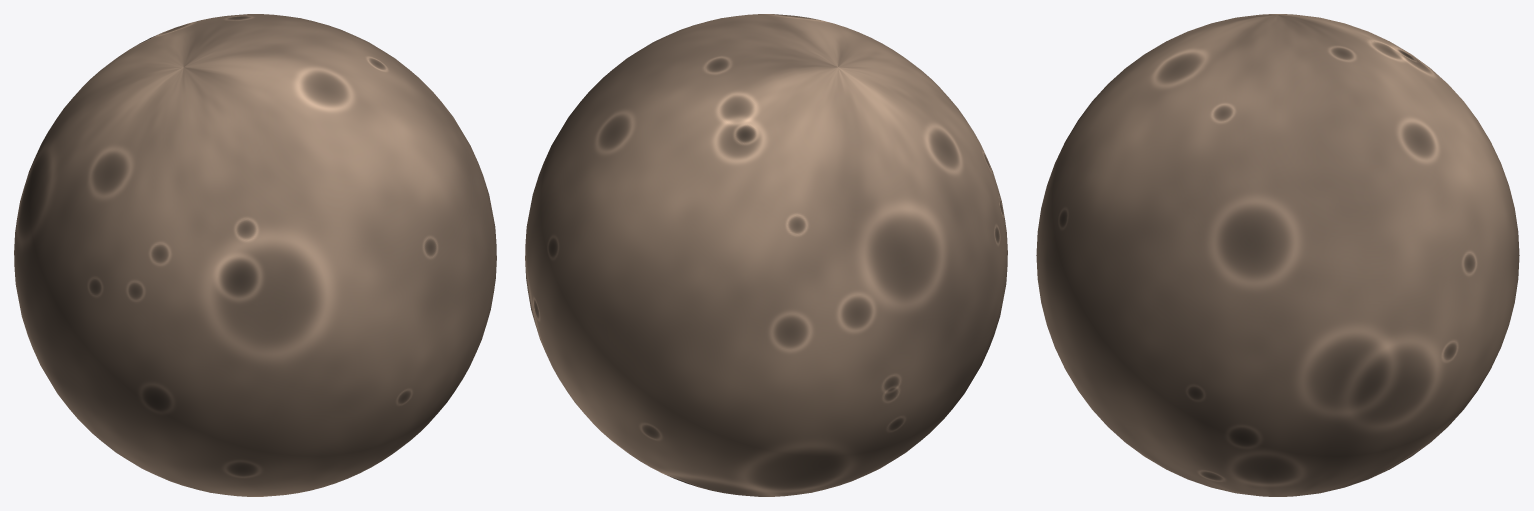
The model's file is eden.glb.
3 renders of one model, left to right at view 1: azimuth 30°, elevation 25°; view 2: azimuth 150°, elevation 25°; view 3: azimuth 270°, elevation 25°, orthographic.
Visible parts, largest first — view 1: Surface; view 2: Surface; view 3: Surface.
Boxes of the visible parts, x1,y1,x2,y2 form: Surface: [14, 14, 496, 496]; Surface: [525, 14, 1007, 496]; Surface: [1036, 14, 1519, 496].
Bounding box in the file's own units: 2 × 2 × 2.
1 material, 1 textured.
